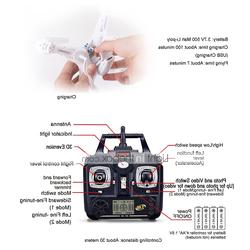drone: (38, 14, 118, 84)
